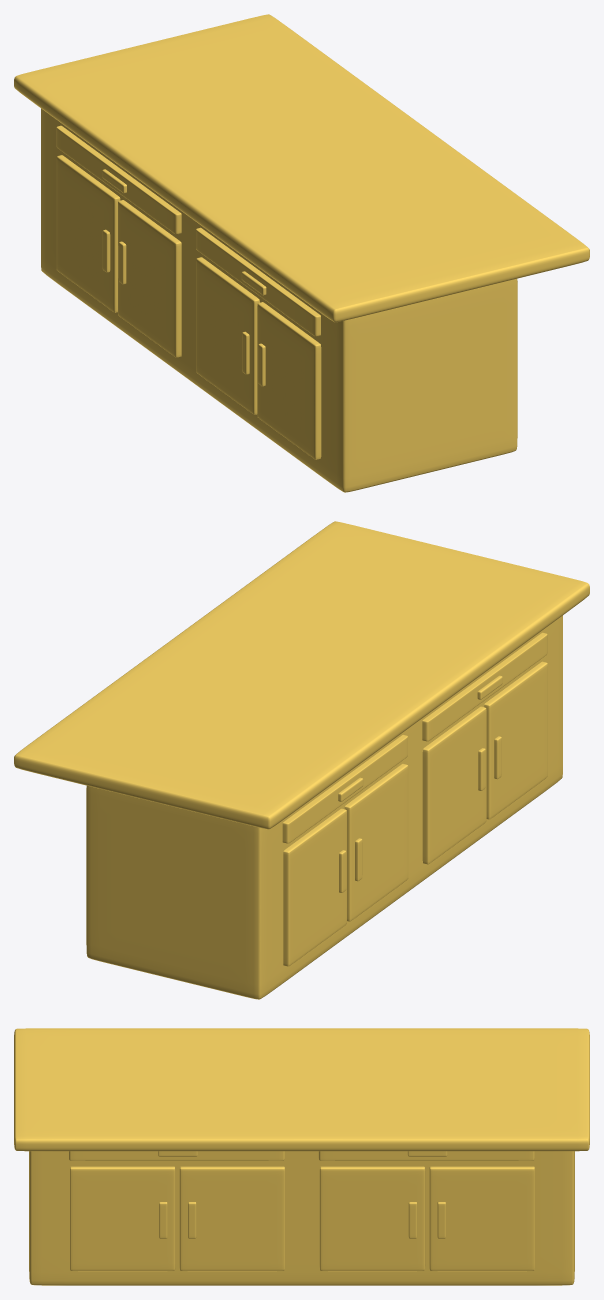
The model's file is Counter.glb.
3 renders of one model, top to bottom at view 1: azimuth 30°, elevation 25°; view 2: azimuth 150°, elevation 25°; view 3: azimuth 270°, elevation 25°, orthographic. The views are drawn at different scales.
Parts seen in each view (by area): view 1: pCube2, pCube1, pCube6, pCube4, pCube8, pCube3, pCube5, pCube7; view 2: pCube2, pCube1, pCube8, pCube3, pCube4, pCube6, pCube7, pCube5; view 3: pCube2, pCube1, pCube25, pCube17, pCube19, pCube18, pCube21, pCube20.
Part boxes in pixels (left/top/right/bottom): pCube2: left=14, top=14, right=589, bottom=322; pCube1: left=41, top=108, right=517, bottom=492; pCube6: left=257, top=302, right=321, bottom=459; pCube4: left=118, top=200, right=181, bottom=357; pCube8: left=196, top=257, right=259, bottom=414; pCube3: left=56, top=155, right=120, bottom=312; pCube5: left=56, top=125, right=181, bottom=234; pCube7: left=196, top=227, right=320, bottom=336; pCube2: left=14, top=521, right=589, bottom=829; pCube1: left=86, top=615, right=562, bottom=999; pCube8: left=422, top=706, right=486, bottom=864; pCube3: left=283, top=808, right=346, bottom=966; pCube4: left=344, top=764, right=408, bottom=921; pCube6: left=484, top=661, right=547, bottom=819; pCube7: left=422, top=632, right=547, bottom=741; pCube5: left=282, top=734, right=407, bottom=843; pCube2: left=14, top=1028, right=589, bottom=1151; pCube1: left=29, top=1151, right=574, bottom=1285; pCube25: left=319, top=1166, right=425, bottom=1271; pCube17: left=429, top=1166, right=534, bottom=1271; pCube19: left=70, top=1166, right=175, bottom=1271; pCube18: left=179, top=1166, right=284, bottom=1271; pCube21: left=318, top=1151, right=534, bottom=1160; pCube20: left=69, top=1151, right=284, bottom=1160.
Bounding box in the file's own units: 3.77 × 2.74 × 8.14.
